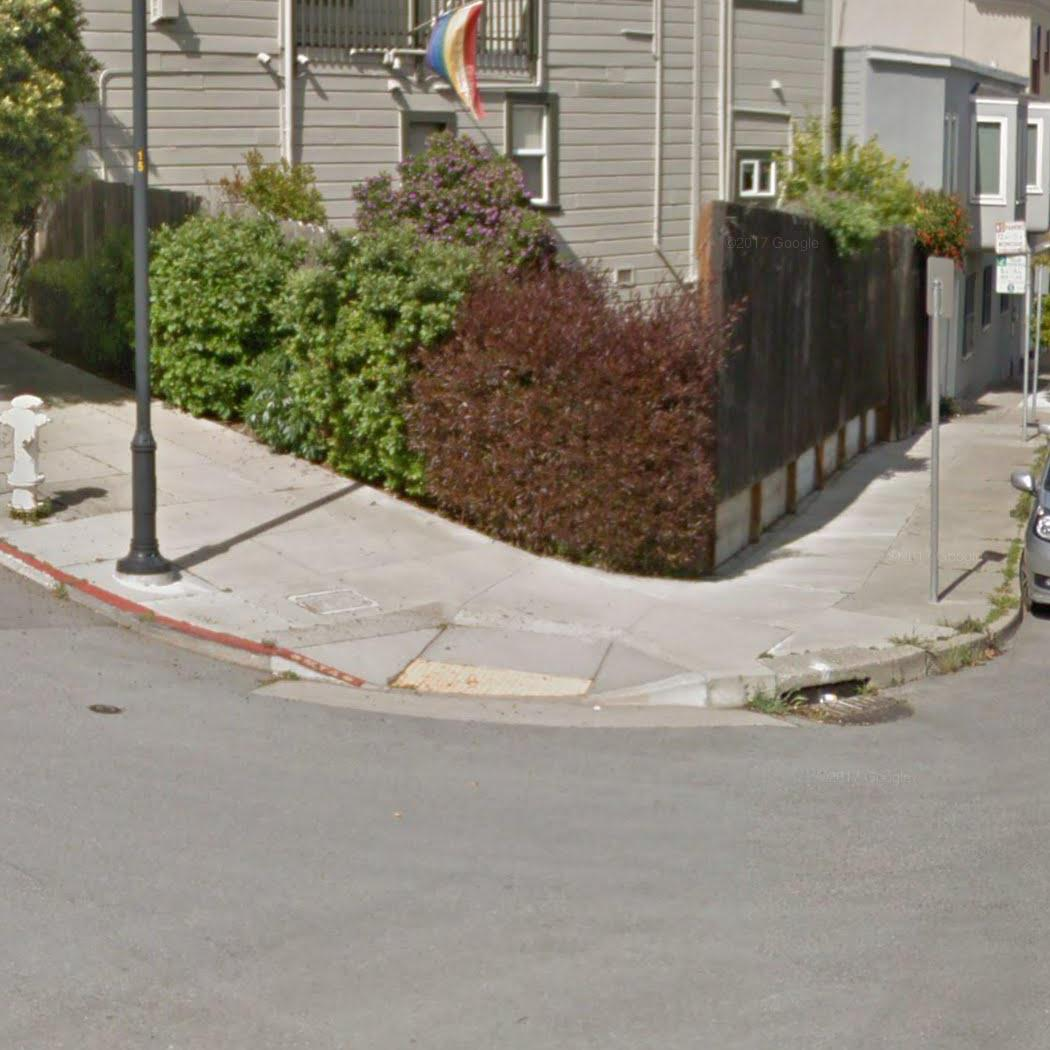2 Hour Parking: (993, 254, 1029, 297)
No Parking: (991, 218, 1027, 256)
